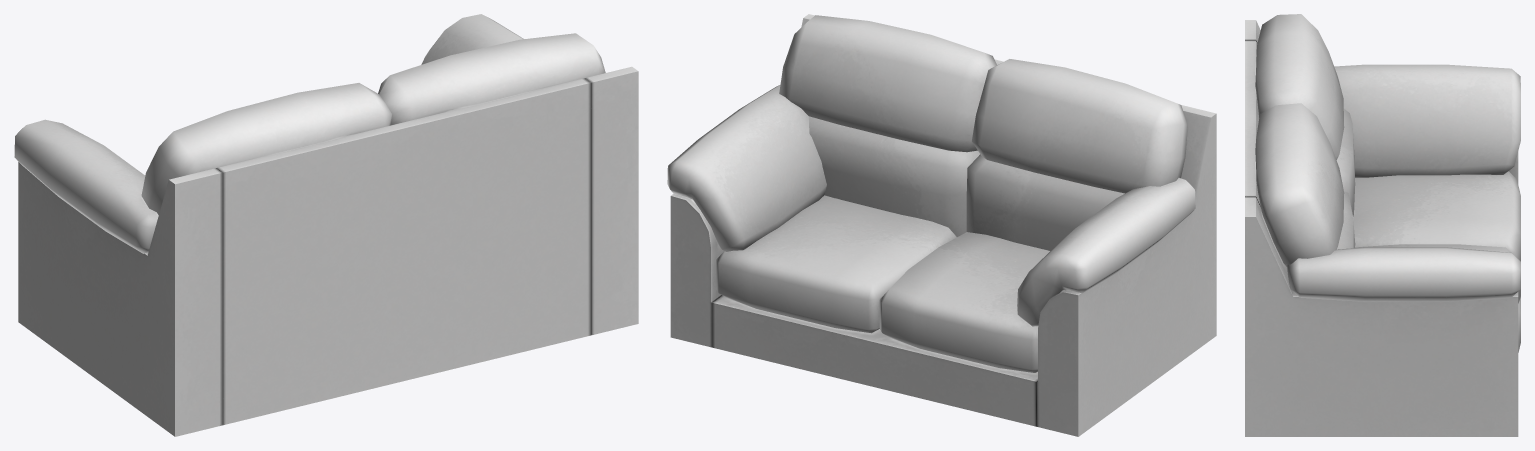
File: Pfb_Sofa__5.fbx
3 views of the same model, side by side, from view 1: azimuth 30°, elevation 25°; view 2: azimuth 150°, elevation 25°; view 3: azimuth 270°, elevation 25° (orthographic). The views are drawn at different scales.
Visible parts, largest first — view 1: MAT_Sofa_Gray; view 2: MAT_Sofa_Gray; view 3: MAT_Sofa_Gray.
Part boxes in pixels (x1=…): MAT_Sofa_Gray: x1=14, y1=14, x2=638, y2=436; MAT_Sofa_Gray: x1=667, y1=14, x2=1216, y2=436; MAT_Sofa_Gray: x1=1245, y1=14, x2=1520, y2=436.
Bounding box in the file's own units: 2.15 × 1.2 × 1.22.
1 material, 1 textured.
